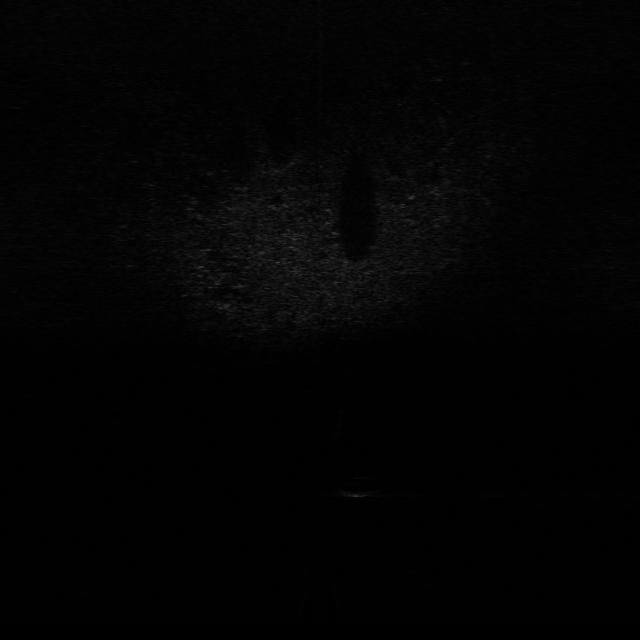ball: (336, 472, 378, 500)
